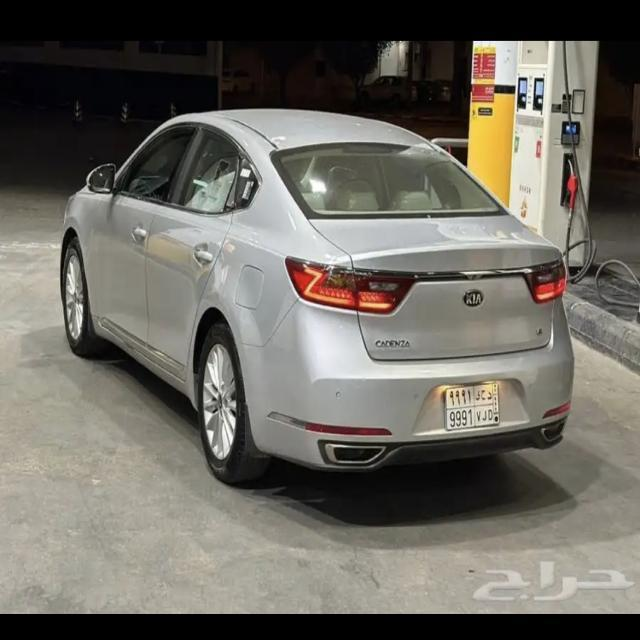license_plate: (441, 385, 503, 430)
